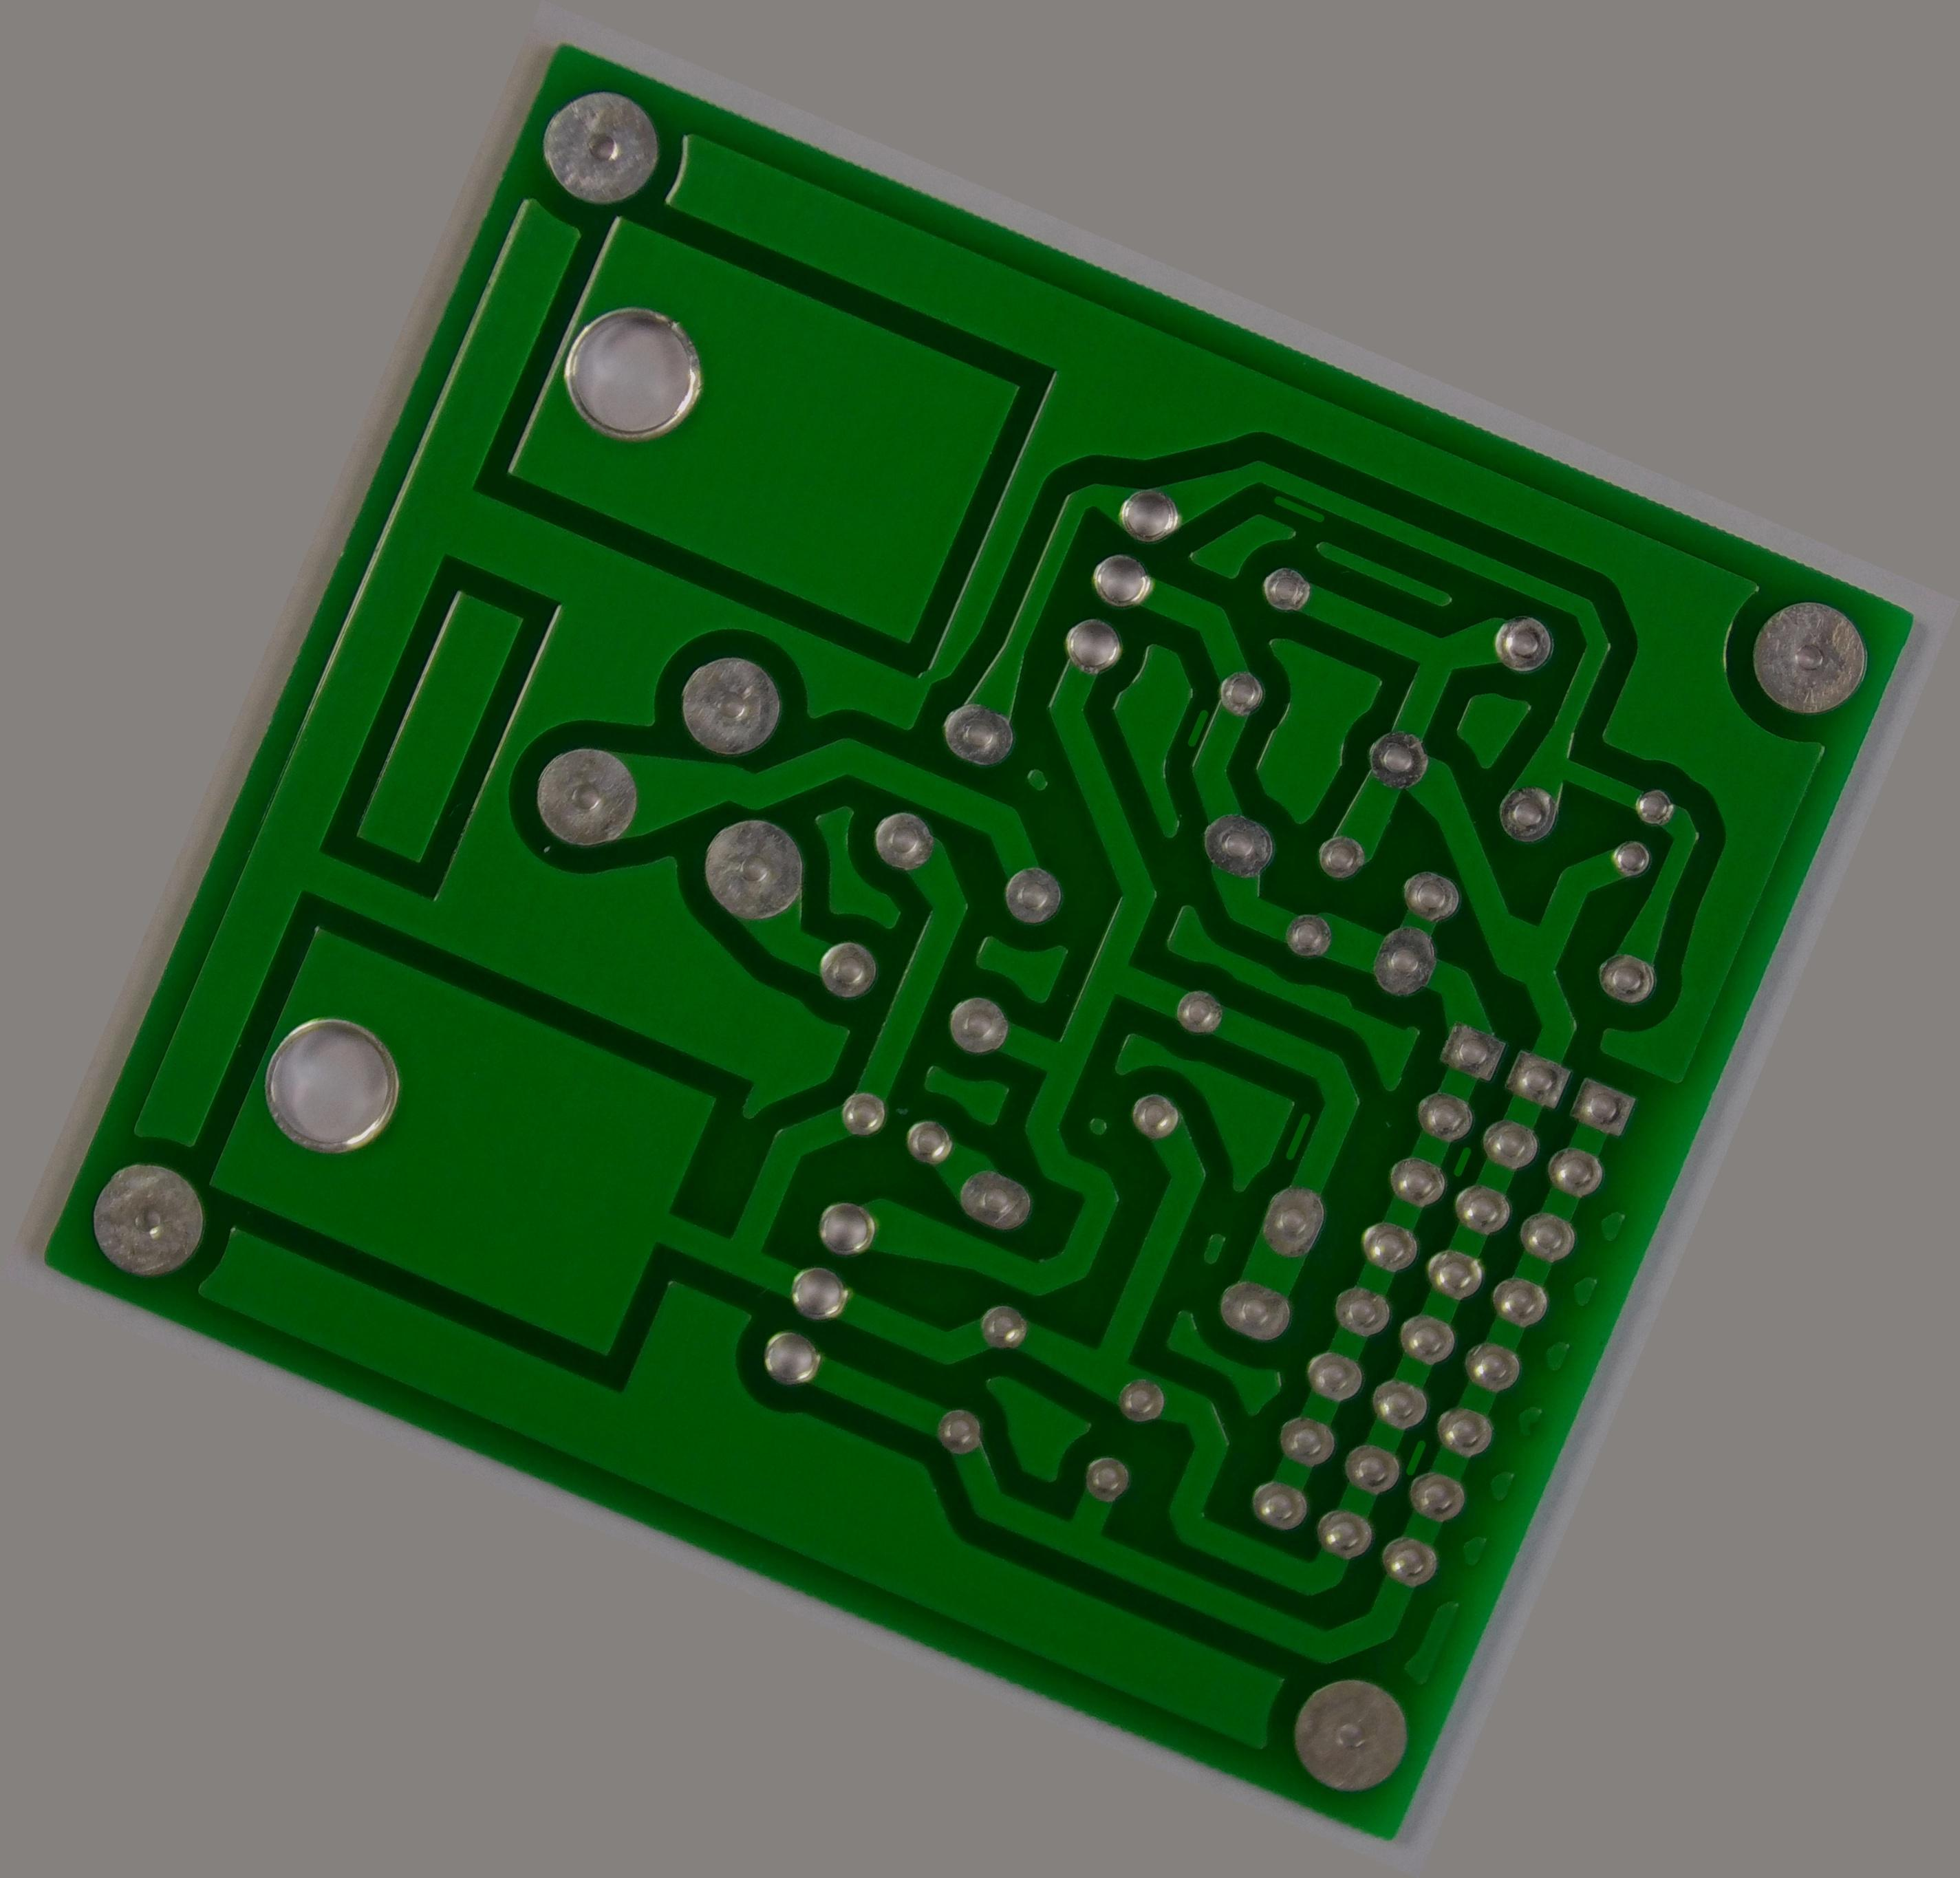spurious_copper: (1255, 480, 1337, 541), (1270, 1103, 1323, 1171), (1174, 693, 1225, 760), (1435, 1132, 1489, 1194), (1393, 1430, 1437, 1486)
